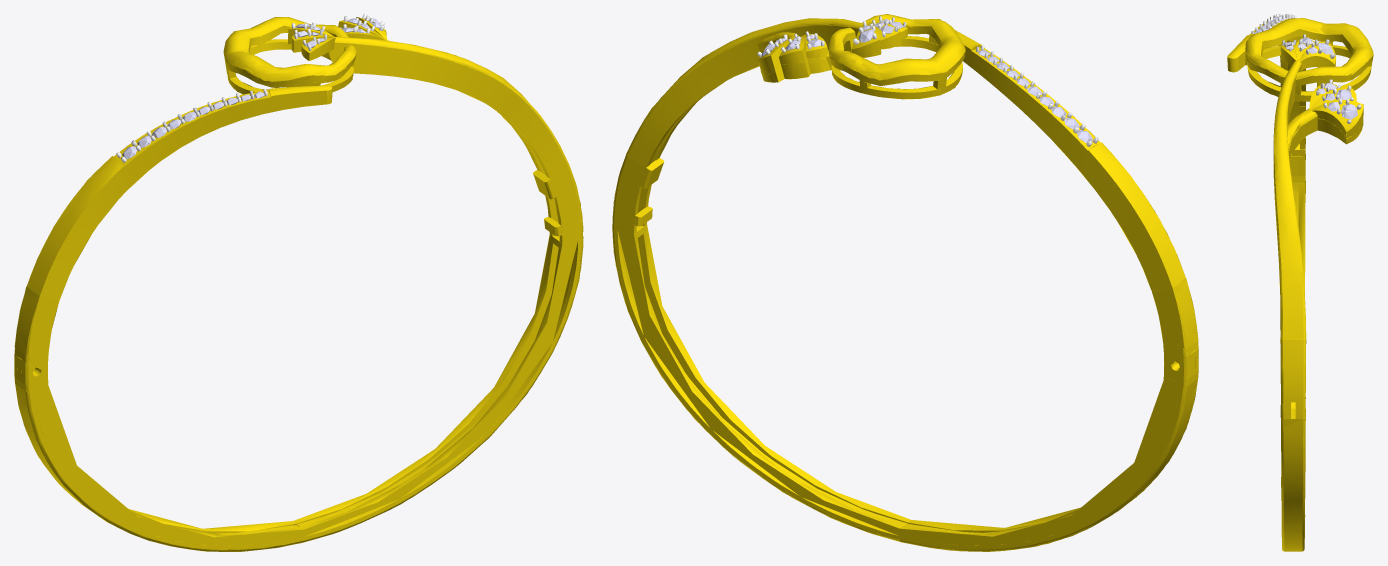
The model's file is DBR-D000688489.glb.
3 renders of one model, left to right at view 1: azimuth 30°, elevation 25°; view 2: azimuth 150°, elevation 25°; view 3: azimuth 270°, elevation 25°, orthographic. The views are drawn at different scales.
Visible parts, largest first — view 1: highPolyMesh, lowPolyMesh; view 2: lowPolyMesh, highPolyMesh; view 3: highPolyMesh, lowPolyMesh.
Part boxes in pixels (x1,y1,x2,y2): highPolyMesh: [14, 14, 583, 551]; lowPolyMesh: [14, 14, 583, 551]; lowPolyMesh: [612, 14, 1198, 551]; highPolyMesh: [612, 14, 1198, 551]; highPolyMesh: [1227, 14, 1373, 551]; lowPolyMesh: [1227, 14, 1373, 551].
Size of the model in its own units: 0.0639 by 0.0548 by 0.015.
